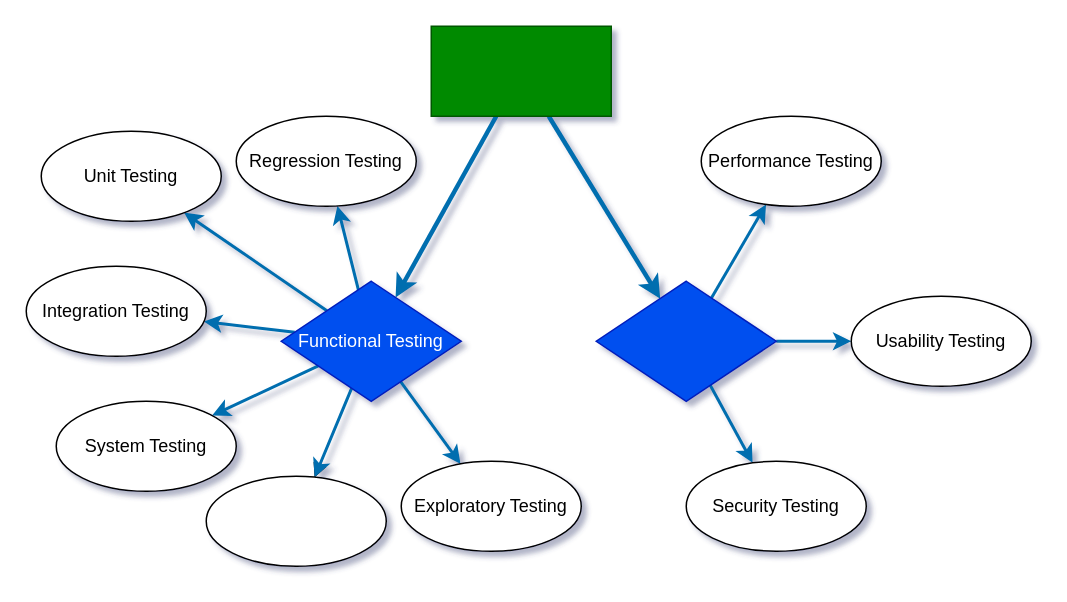
Some shapes in this 1067 by 602 pixel diagram are drawn without their labels. The centre of each missing label's shape, as x and y in pixels:
Non-Functional Testing: the point at 685,340
Software Testing Methods: the point at 520,70
User Acceptance Testing: the point at 295,520
